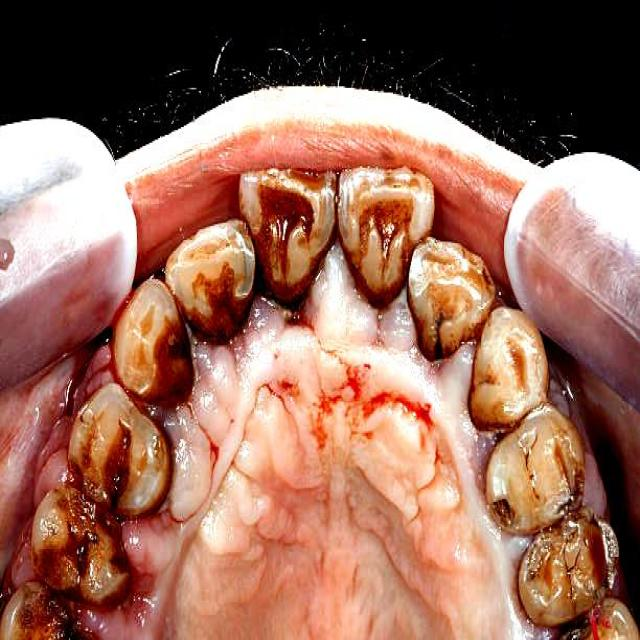caries: (26, 482, 130, 604), (523, 515, 620, 617), (103, 414, 145, 504), (544, 452, 598, 521), (423, 295, 466, 365), (483, 473, 528, 536)
